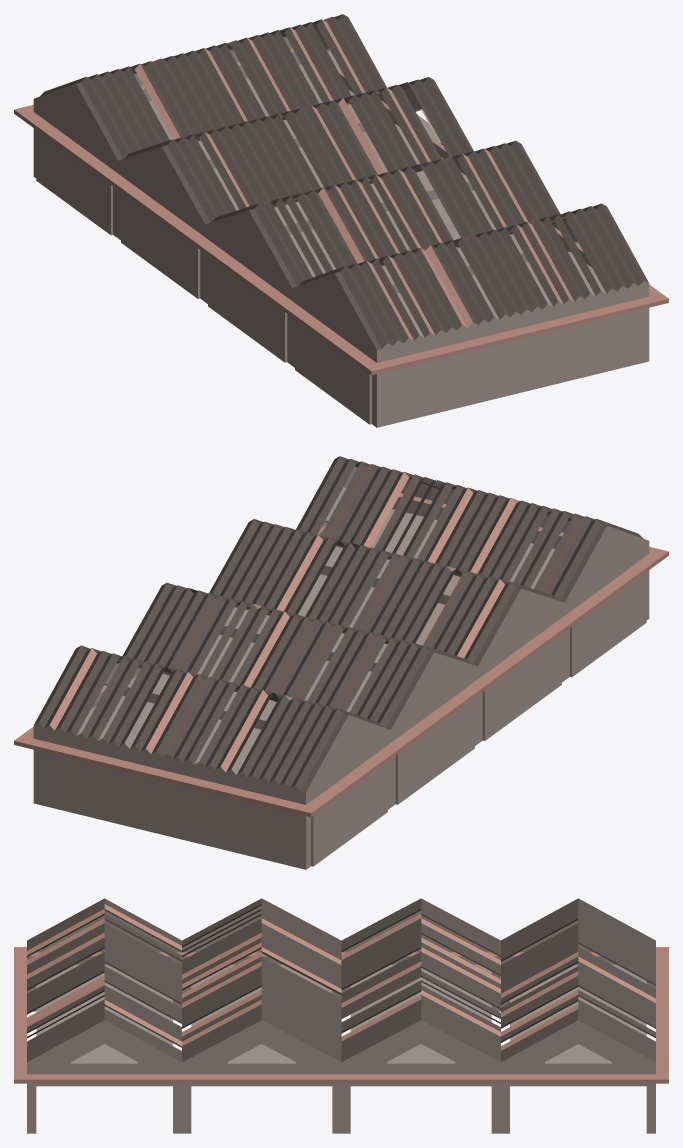
File: 13 Godown.FBX
The picture shows the model from 3 angles, top to bottom: view 1: azimuth 30°, elevation 25°; view 2: azimuth 150°, elevation 25°; view 3: azimuth 270°, elevation 25°; orthographic projection. The views are drawn at different scales.
Visible parts, largest first — view 1: Godown; view 2: Godown; view 3: Godown.
Boxes of the visible parts, x1,y1,x2,y2 form: Godown: (14, 14, 668, 427); Godown: (14, 456, 668, 869); Godown: (14, 898, 668, 1133).
Bounding box in the file's own units: 2400 × 990 × 5000.
